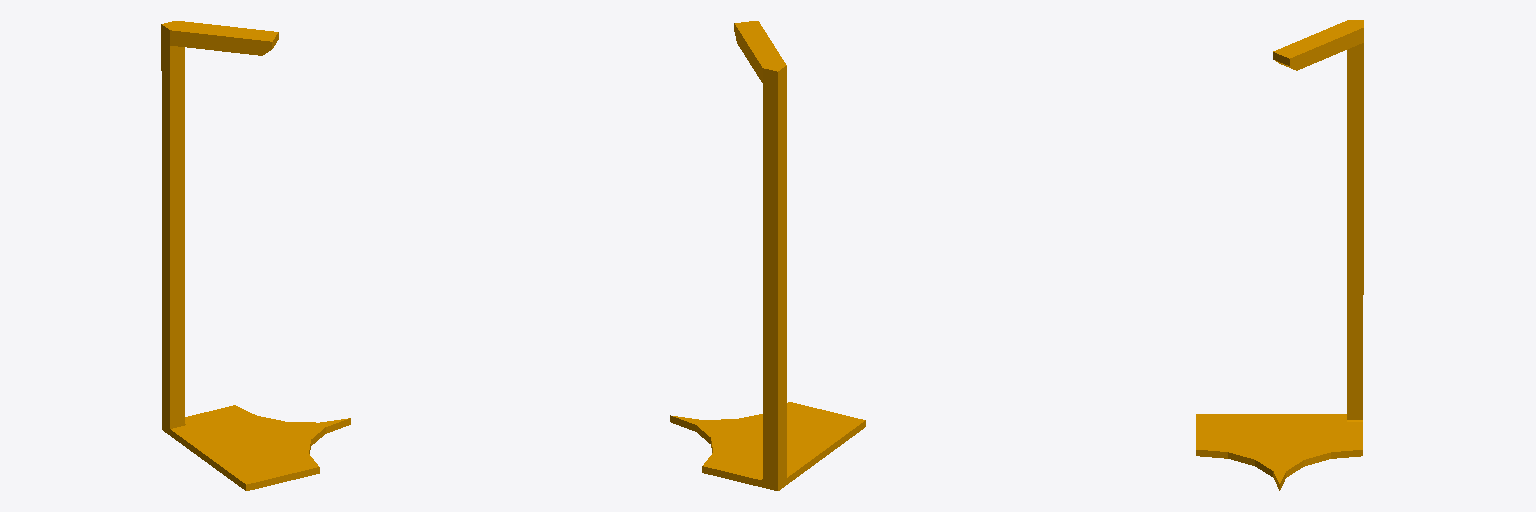
URDF robot description (mounting):
<robot name="mounting">

    <link name="mount">
        <visual>
            <geometry>
                <mesh filename="package://braccio_description/stl/camera_mount.stl" scale="0.001 0.001 0.001" />
            </geometry>
            <origin rpy="1.57 0 0" xyz="0 0.0 0" />
        </visual>
        <collision>
            <geometry>
                <mesh filename="package://braccio_description/stl/camera_mount.stl" scale="0.001 0.001 0.001" />
            </geometry>
            <origin rpy="1.57 0 0" xyz="0 0.0 0" />
        </collision>
        <inertial>
            <origin rpy="1.57 0 0" xyz="0 0.0 0" />
            <mass value="2" />
            <inertia ixx="0.015" ixy="0" ixz="0" iyy="0.00666666666667" iyz="0" izz="0.0216666666667" />
        </inertial>
    </link>

</robot>

--- Facts derived from the render (not from the file) ---
3 views of the same robot in one strip: view 1: azimuth 30°, elevation 25°; view 2: azimuth 150°, elevation 25°; view 3: azimuth 270°, elevation 25° (orthographic).
Robot: mounting — 1 links, 0 joints (none); root link mount; default pose: every joint at zero.
Visible links, largest first — view 1: mount; view 2: mount; view 3: mount.
Link boxes in pixels (box(x1,y1,x2,y2)): mount: box(161, 21, 350, 490); mount: box(670, 21, 865, 490); mount: box(1196, 20, 1363, 490).
Size in the robot's own frame: 0.25 by 0.2505 by 0.6611 metres.
1 mesh visuals loaded from 1 distinct referenced files (1 binary STL).